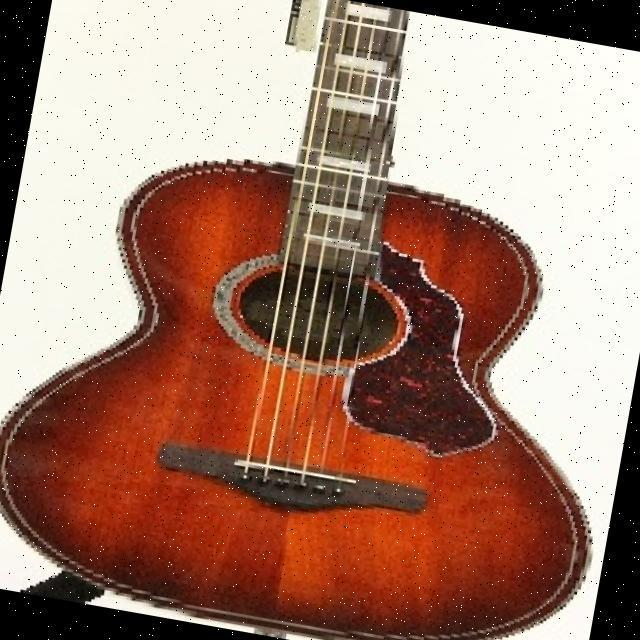acousticguitar: (0, 1, 587, 637)
